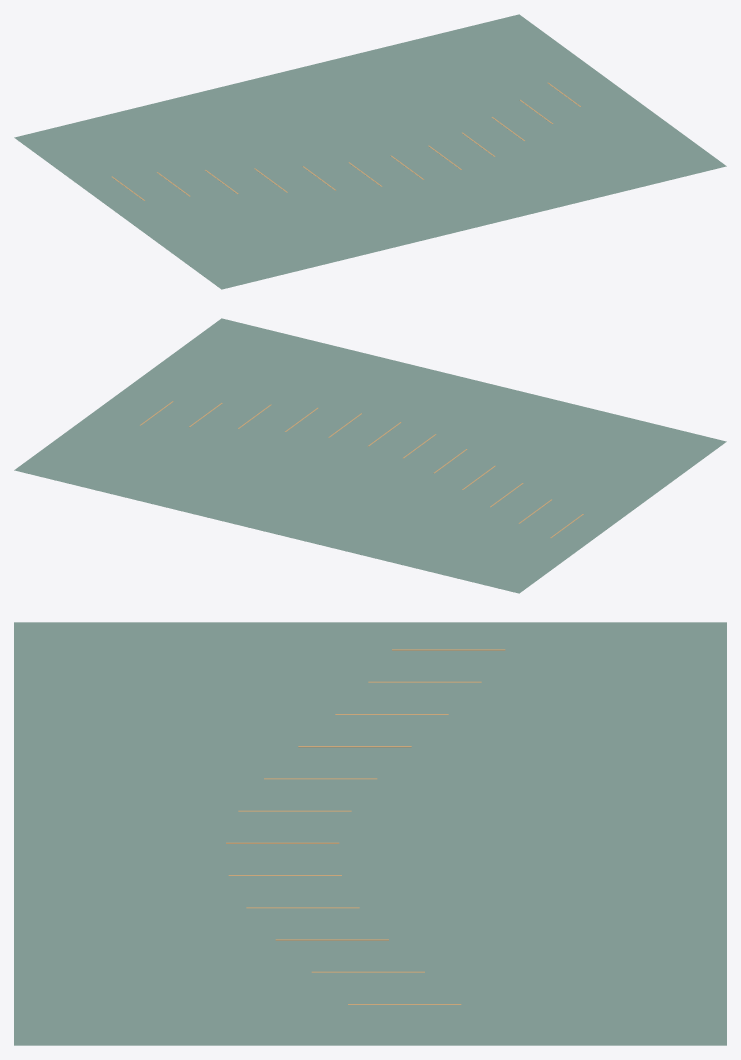
File: 257_L119_L8_LayerReference.glb
The picture shows the model from 3 angles, top to bottom: view 1: azimuth 30°, elevation 25°; view 2: azimuth 150°, elevation 25°; view 3: azimuth 270°, elevation 25°; orthographic projection. The views are drawn at different scales.
Parts seen in each view (by area): view 1: 0000__PSMAT__dielectric; view 2: 0000__PSMAT__dielectric; view 3: 0000__PSMAT__dielectric.
Part boxes in pixels (left/top/right/bottom): 0000__PSMAT__dielectric: left=14, top=14, right=726, bottom=289; 0000__PSMAT__dielectric: left=14, top=318, right=726, bottom=593; 0000__PSMAT__dielectric: left=14, top=622, right=726, bottom=1045.
Size of the model in its own units: 0.486 by 0.000172 by 0.346.
